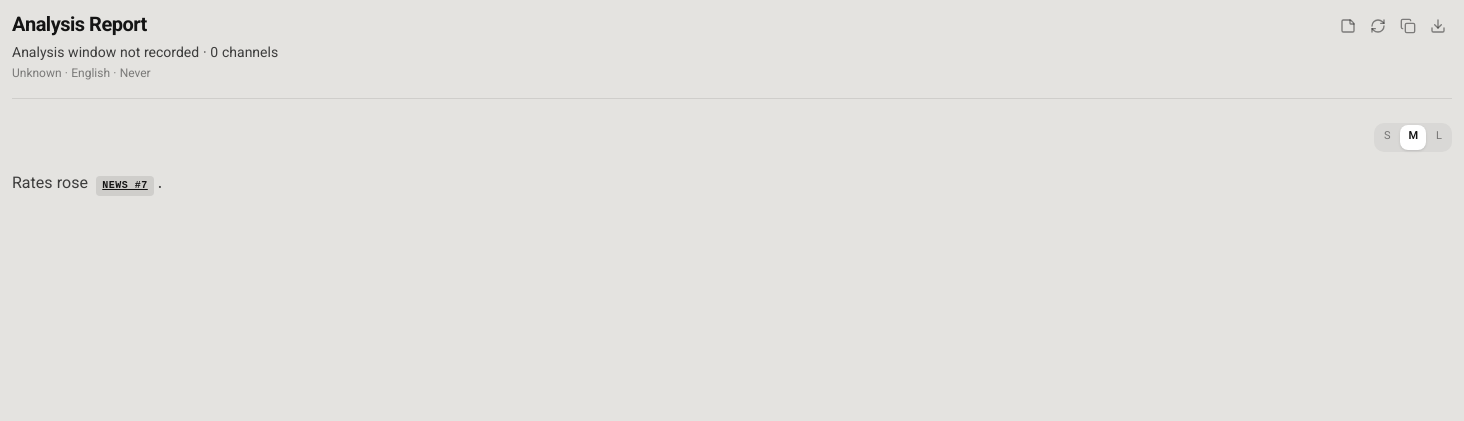
a Citation in the report › a deleted or aged-out Post is shown from the Summary's snapshot
Hover over the link "news #7" at (125, 186), box [96,176,154,196]
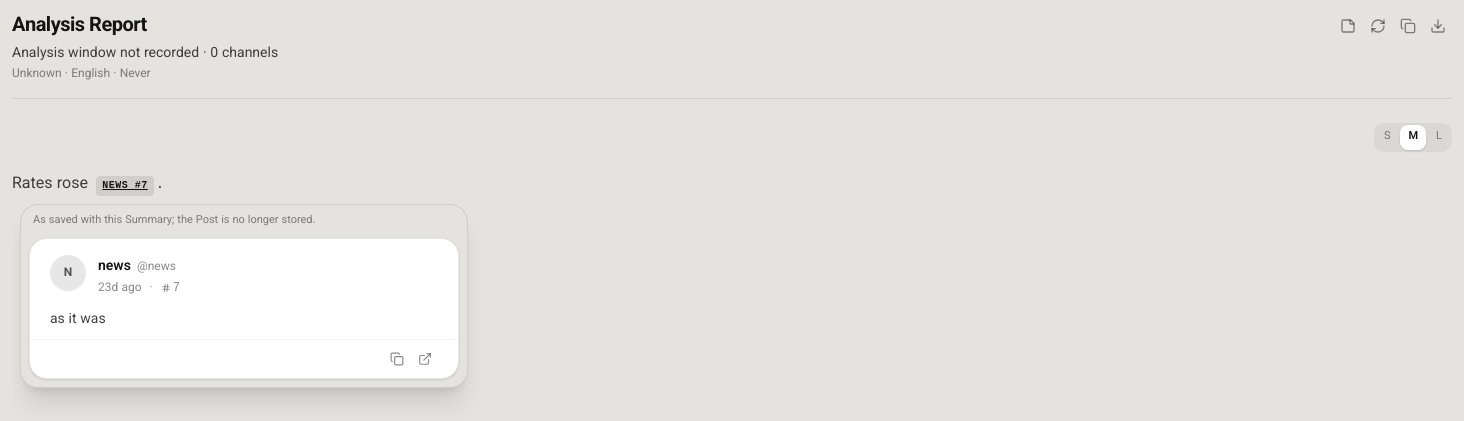
Check: the text "as it was" is shown, box [50,308,106,330]
Check: the text "As saved with this Summary; the Post is no longer stored." is shown, box [33,212,316,229]
